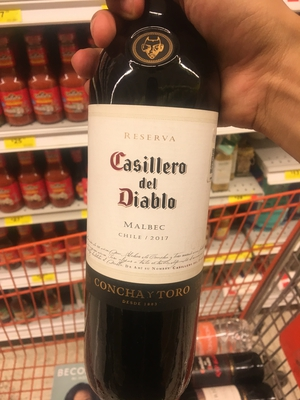casillero del diablo malbec: (78, 14, 214, 389)
